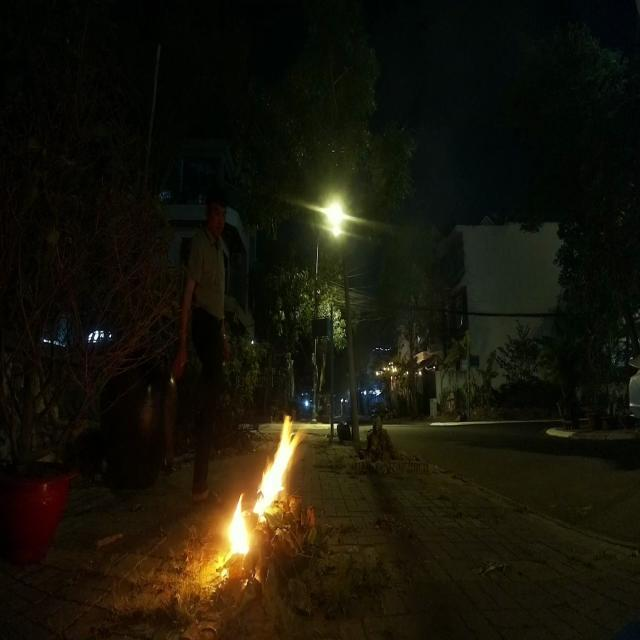Fire: (206, 406, 305, 596)
